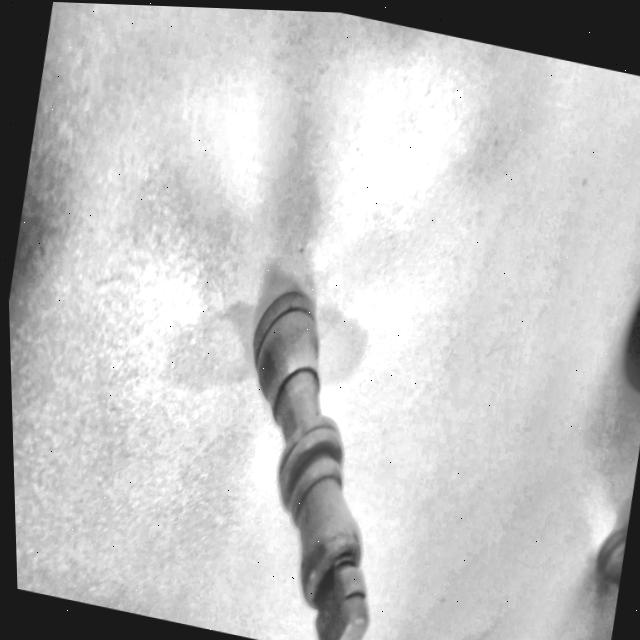white-king: (165, 244, 455, 640)
